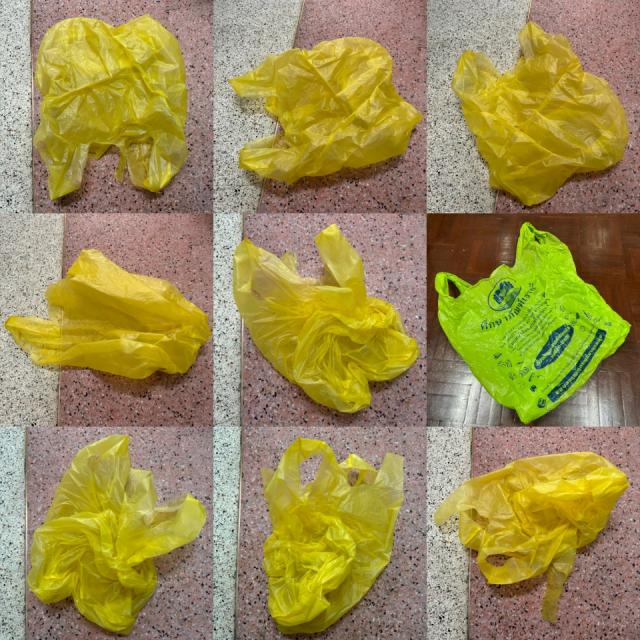Single-layer Plastic: (435, 222, 630, 423), (28, 435, 206, 633), (232, 225, 420, 412), (435, 451, 629, 622), (451, 21, 629, 206), (34, 15, 188, 199), (230, 38, 422, 183), (262, 438, 404, 634), (5, 250, 211, 379)
